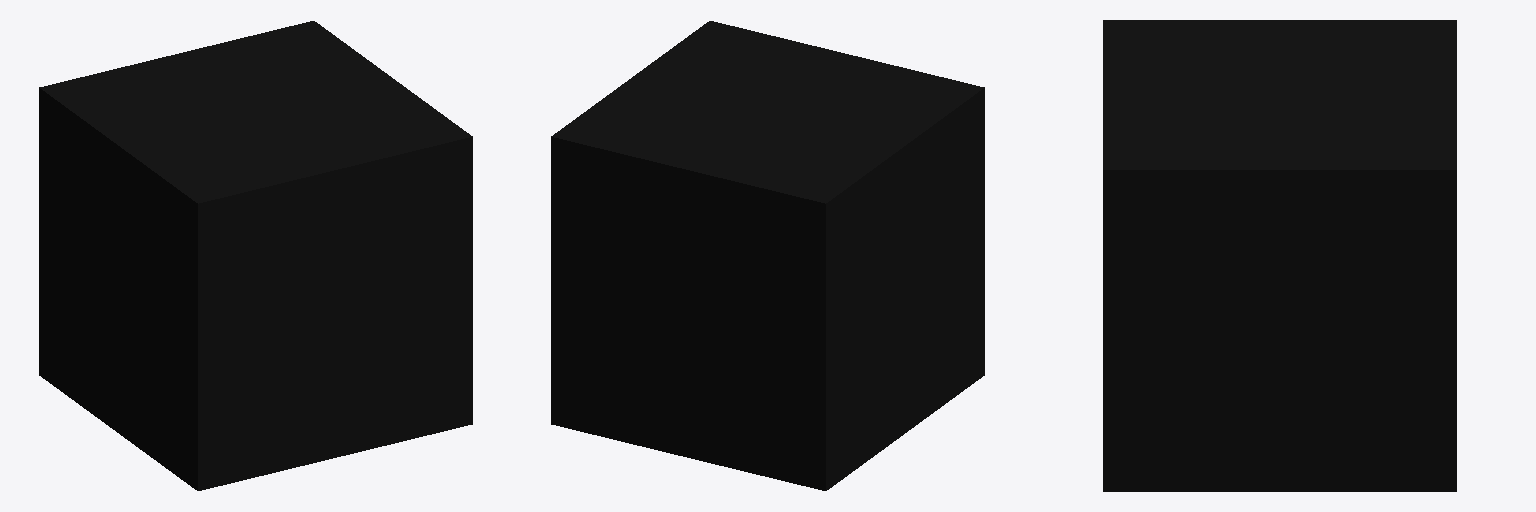
URDF robot description (foamy_brick):
<robot
  name="foamy_brick">
  <link
    name="airplane_body">
    <inertial>
      <origin
        xyz="0 0 0"
        rpy="0 0 0" />
      <mass
        value=".484" />
      <inertia
        ixx="0.003922"
        ixy="0.000303"
        ixz="0.000441"
        iyy="0.015940"
        iyz="-0.000030"
        izz="0.019340" />
    </inertial>
    <visual>
      <origin
        xyz="0 0 0"
        rpy="0 0 0 "/>
      <geometry>
        <box
        size="1 1 1"
        />
      </geometry>
      <material
        name="">
        <color
          rgba="0.1 0.1 0.1 1" />
      </material>
    </visual>
  </link>


</robot>

--- Render facts (derived) ---
The picture shows the robot from 3 angles, left to right: view 1: azimuth 30°, elevation 25°; view 2: azimuth 150°, elevation 25°; view 3: azimuth 270°, elevation 25°; orthographic projection.
Model foamy_brick with 1 links and 0 joints (none), rooted at airplane_body, posed all joints at 0.
Links seen in each view (by area): view 1: airplane_body; view 2: airplane_body; view 3: airplane_body.
Boxes of the visible links, <box> form: airplane_body: <box>39,21,472,490</box>; airplane_body: <box>551,21,984,490</box>; airplane_body: <box>1103,20,1456,491</box>.
Bounding box of the posed robot: 1 × 1 × 1 m (x, y, z).
Geometry: primitives only (box / cylinder / sphere), no mesh files.